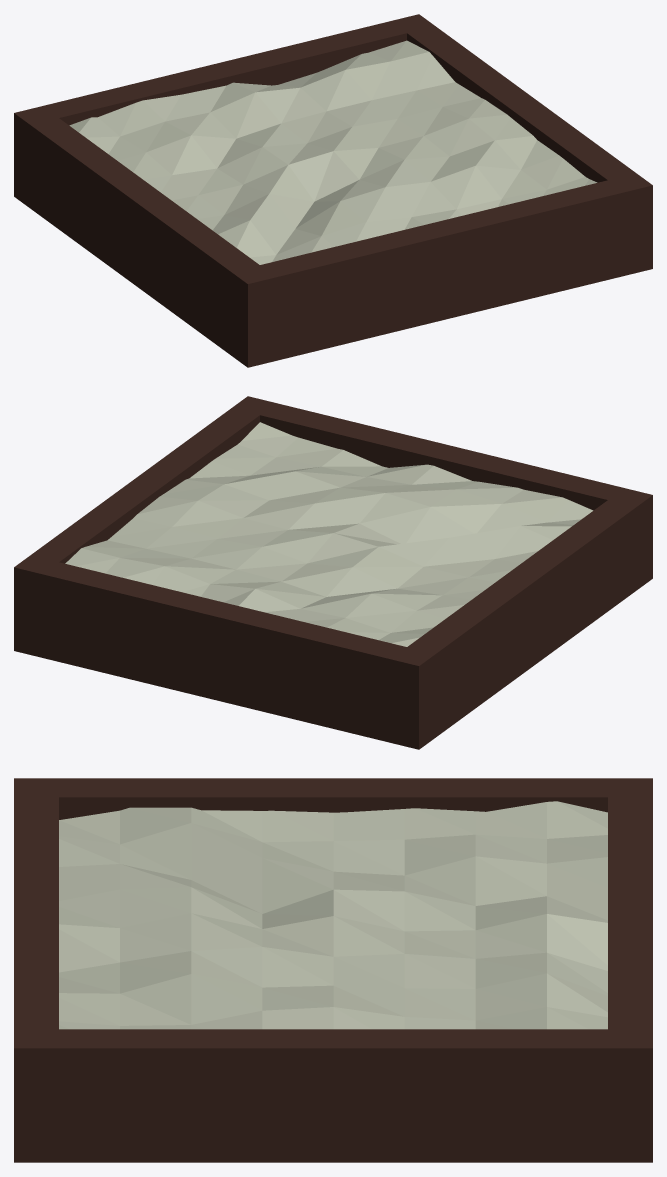
The model's file is Tree_Tub_Brown_vc.fbx.
3 views of the same model, one above another, from view 1: azimuth 30°, elevation 25°; view 2: azimuth 150°, elevation 25°; view 3: azimuth 270°, elevation 25° (orthographic). The views are drawn at different scales.
Visible parts, largest first — view 1: Tree_Tub_Brown_vc; view 2: Tree_Tub_Brown_vc; view 3: Tree_Tub_Brown_vc.
Part boxes in pixels (<box>): Tree_Tub_Brown_vc: <box>14,14,652,367</box>; Tree_Tub_Brown_vc: <box>14,396,652,749</box>; Tree_Tub_Brown_vc: <box>14,778,652,1162</box>.
Bounding box in the file's own units: 426 × 84.19 × 426.
